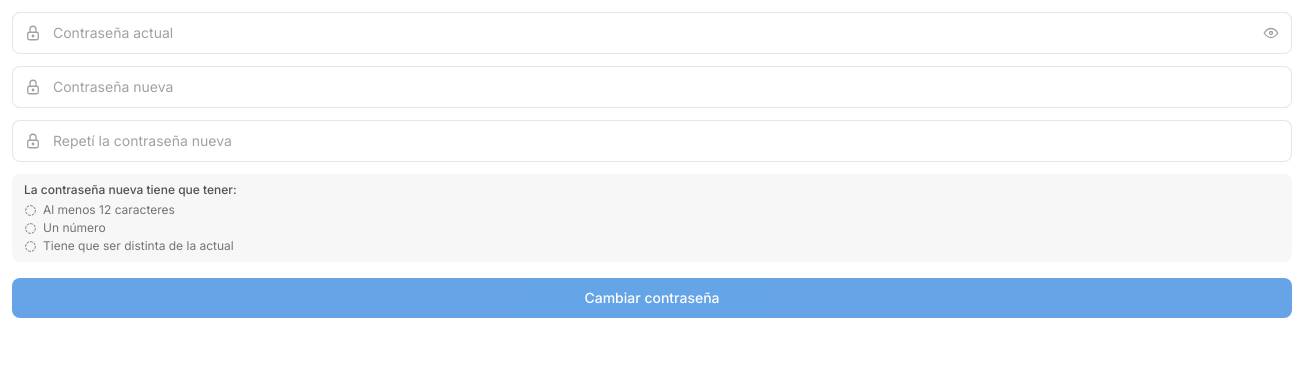
ChangePasswordForm › traduce los rechazos por código (repetida, política)
Type "actual-123" into the password field labelled "Contraseña actual" at (652, 33), box [12,12,1292,54]
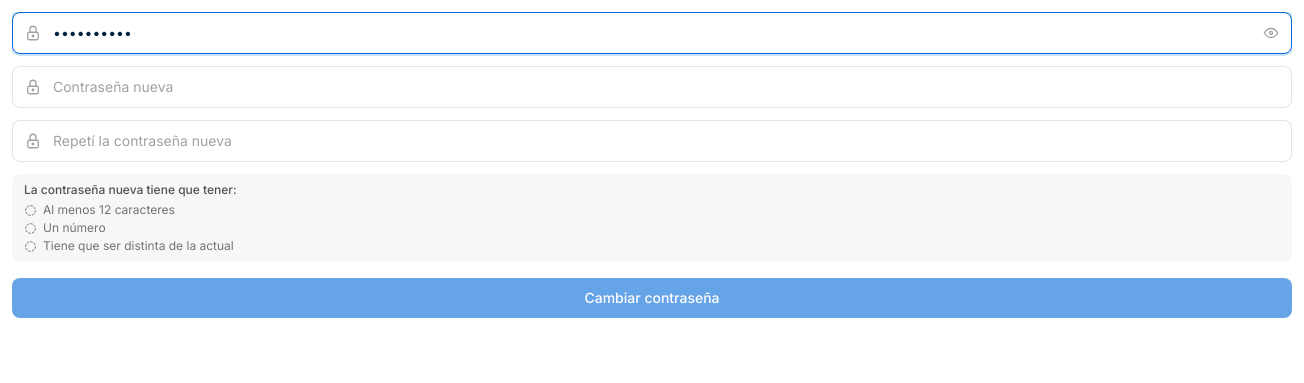
Type "una clave nueva 2026" into the password field labelled "Contraseña nueva" at (652, 87), box [12,66,1292,108]
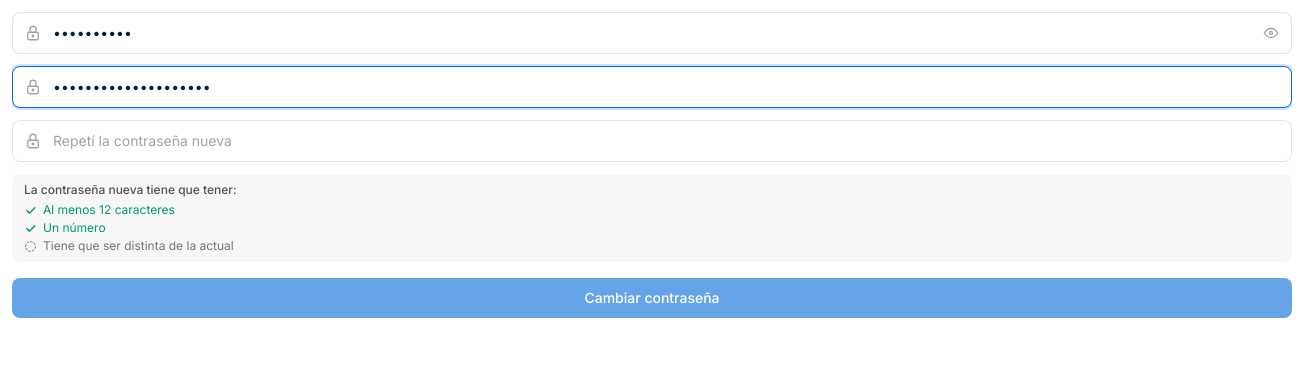
Type "una clave nueva 2026" into the password field labelled "Repetí la contraseña nueva" at (652, 141), box [12,120,1292,162]
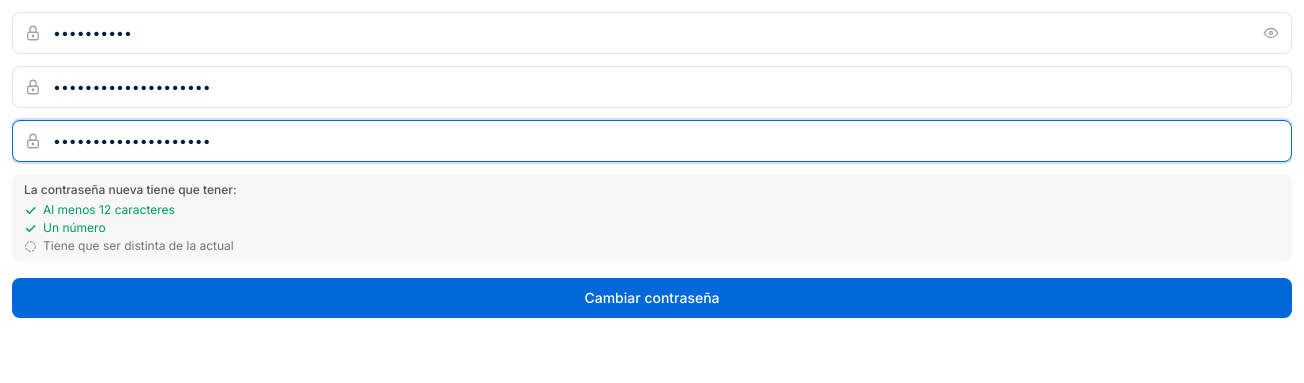
Click the button "Cambiar contraseña" at (652, 298), box [12,278,1292,318]
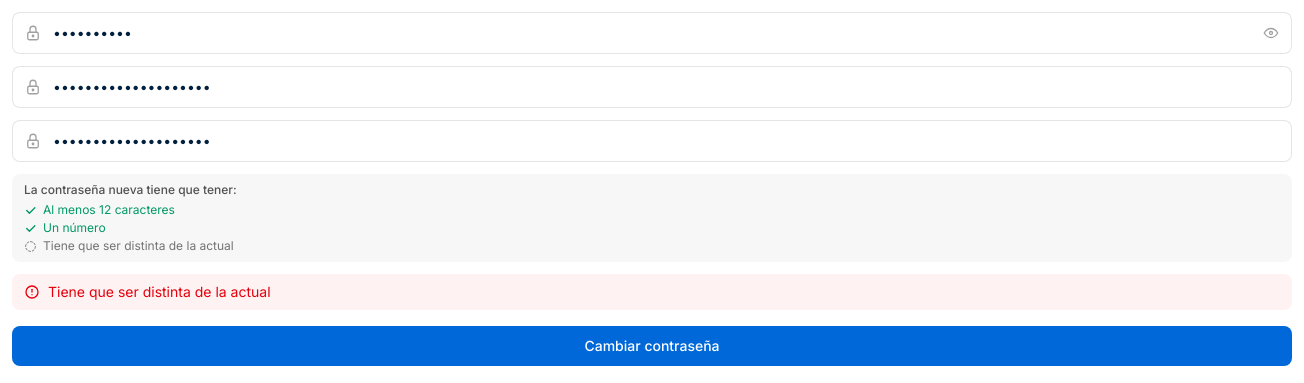
Expected: the message reads "Tiene que ser distinta de la actual", [48,283,270,300]
